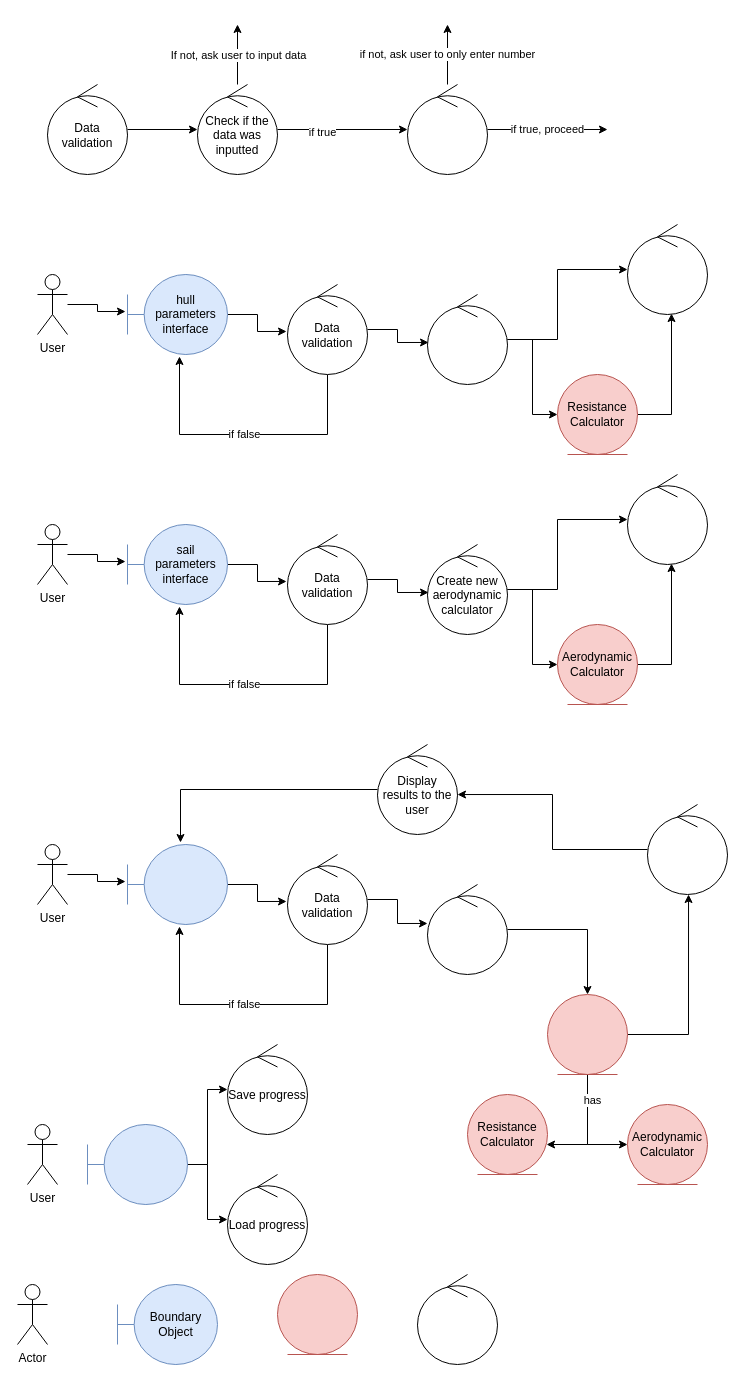
Image size: 745x1383. Some labels were removed from this diagram. The shapes that lost their labels are listed below. From the top down, each one's box as (x1, y1, x2, y2) in pixels, then its label:
(406, 84, 488, 174): Check the the data is real number
(626, 224, 708, 314): Calculate Total resistance and Side Force
(426, 294, 508, 384): Create new resistance calculator
(626, 474, 708, 564): Calculate drive and side forces
(646, 804, 728, 894): Applies equilibrium laws to the calculations
(126, 844, 228, 924): equilibrium interface
(426, 884, 508, 974): Create new equilibrium calculator
(546, 994, 628, 1074): Equilibrium Calculator
(86, 1124, 188, 1204): Any interface
(276, 1274, 358, 1354): Entity Object
(416, 1274, 498, 1364): Control Object
